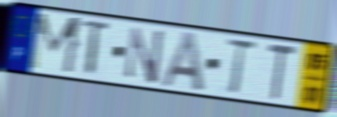A: (159, 30, 207, 94)
M: (26, 11, 86, 77)
N: (124, 24, 166, 87)
T: (266, 41, 299, 102), (224, 38, 258, 97), (81, 17, 113, 78)
